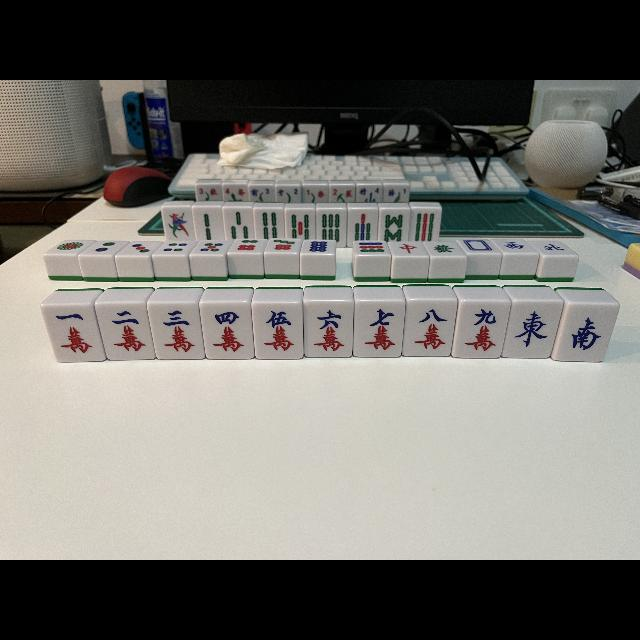c1: (42, 306, 104, 362)
c2: (96, 302, 154, 360)
c3: (147, 303, 206, 359)
c4: (199, 302, 253, 358)
c5: (252, 302, 304, 358)
c6: (303, 302, 353, 356)
c7: (355, 301, 405, 357)
c8: (406, 299, 454, 356)
c9: (456, 302, 506, 358)
we: (505, 301, 557, 357)
ws: (556, 304, 618, 361)
